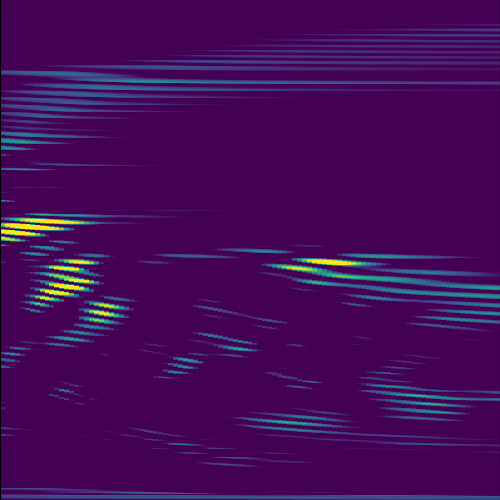semblance: (13, 256, 107, 318), (1, 210, 104, 251), (73, 294, 135, 347)
